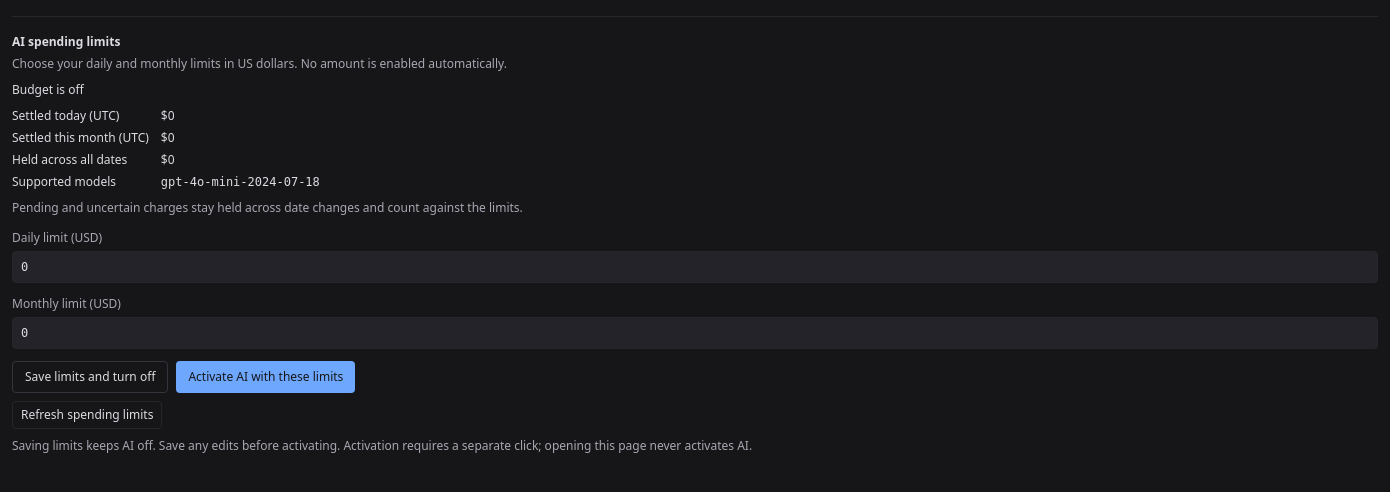
Test: AiBudgetSettings › saves exact six-place limits, stays unactivated and activates only the reviewed new revision
Replace the text in the field labelled "Daily limit (USD)" with "0.000001" at (695, 267), box left=12, top=251, right=1378, bottom=283
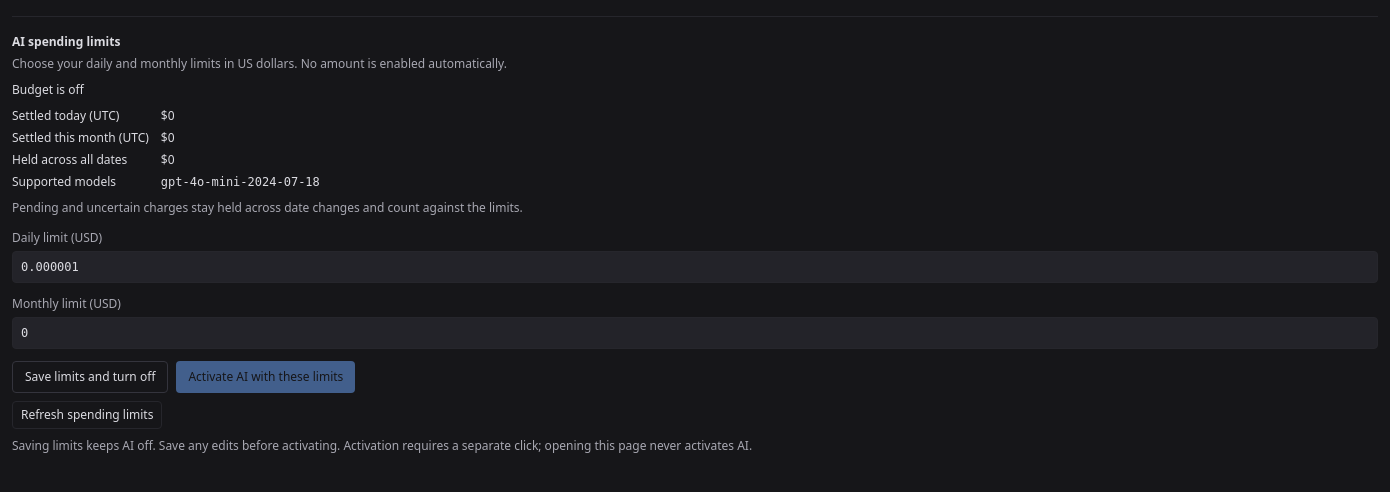
Replace the text in the field labelled "Monthly limit (USD)" with "9007199254.740993" at (695, 333), box left=12, top=317, right=1378, bottom=349
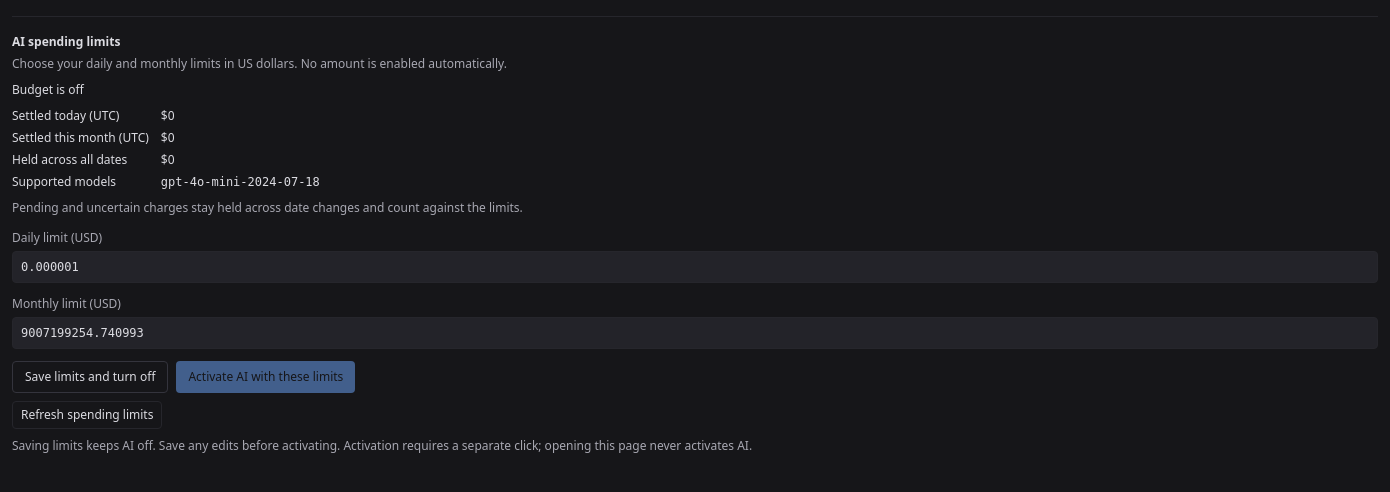
Expected: the button "Activate AI with these limits" is disabled, left=176, top=361, right=355, bottom=393
Click the button "Save limits and turn off".
click(90, 377)  # box left=12, top=361, right=168, bottom=393
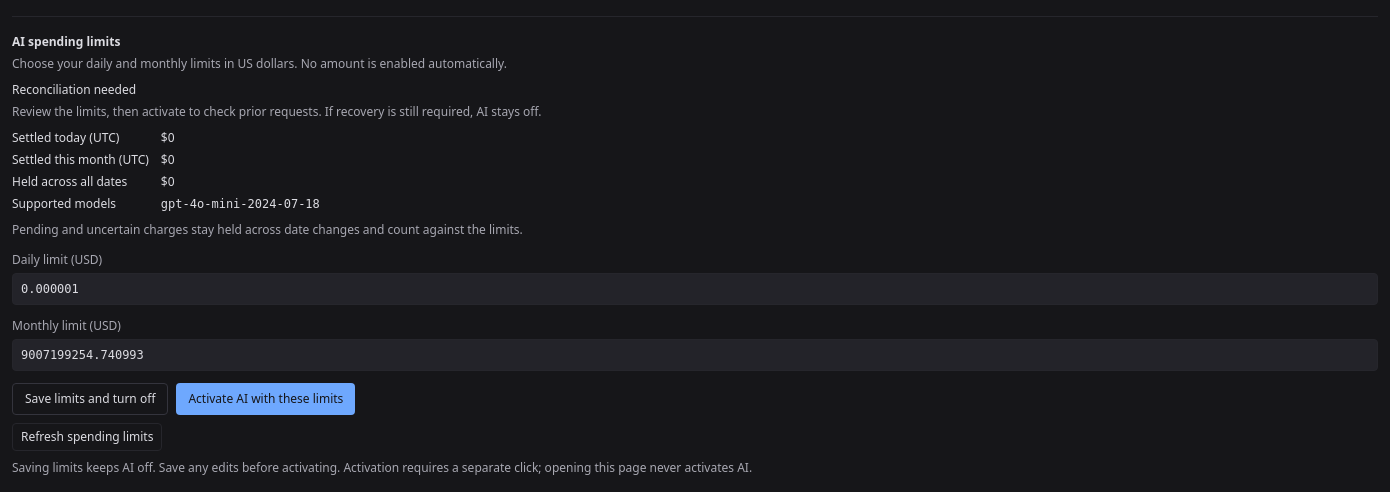
Expected: the text "Reconciliation needed" is shown, left=12, top=81, right=136, bottom=98
Expected: the button "Activate AI with these limits" is enabled
Click the button "Activate AI with these limits".
click(266, 399)  # box left=176, top=383, right=355, bottom=415
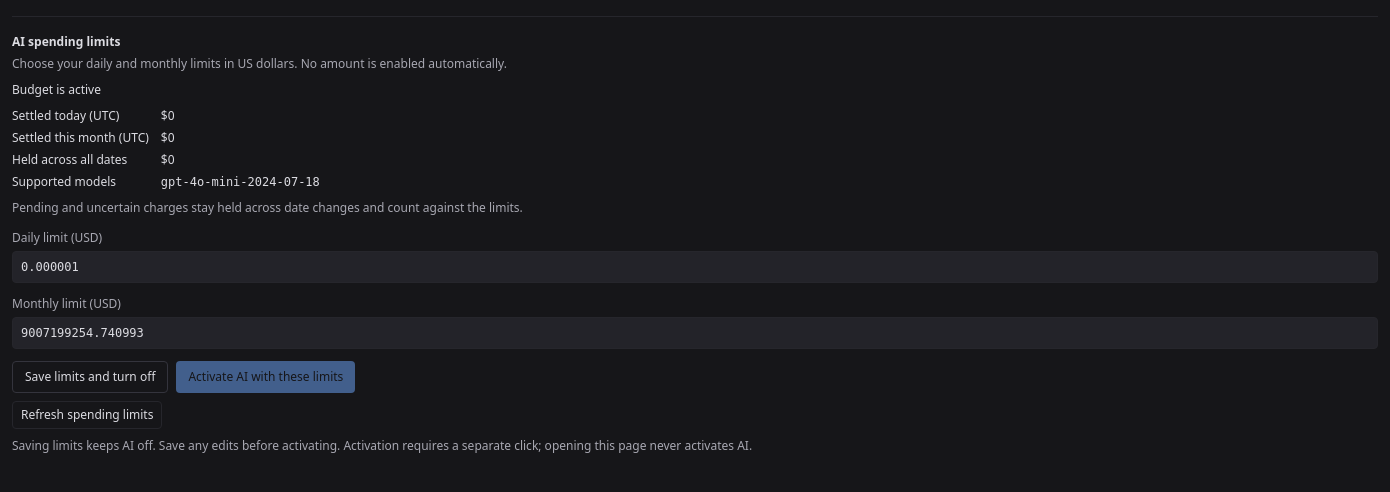
Expected: the text "Budget is active" is shown, left=12, top=81, right=101, bottom=98
